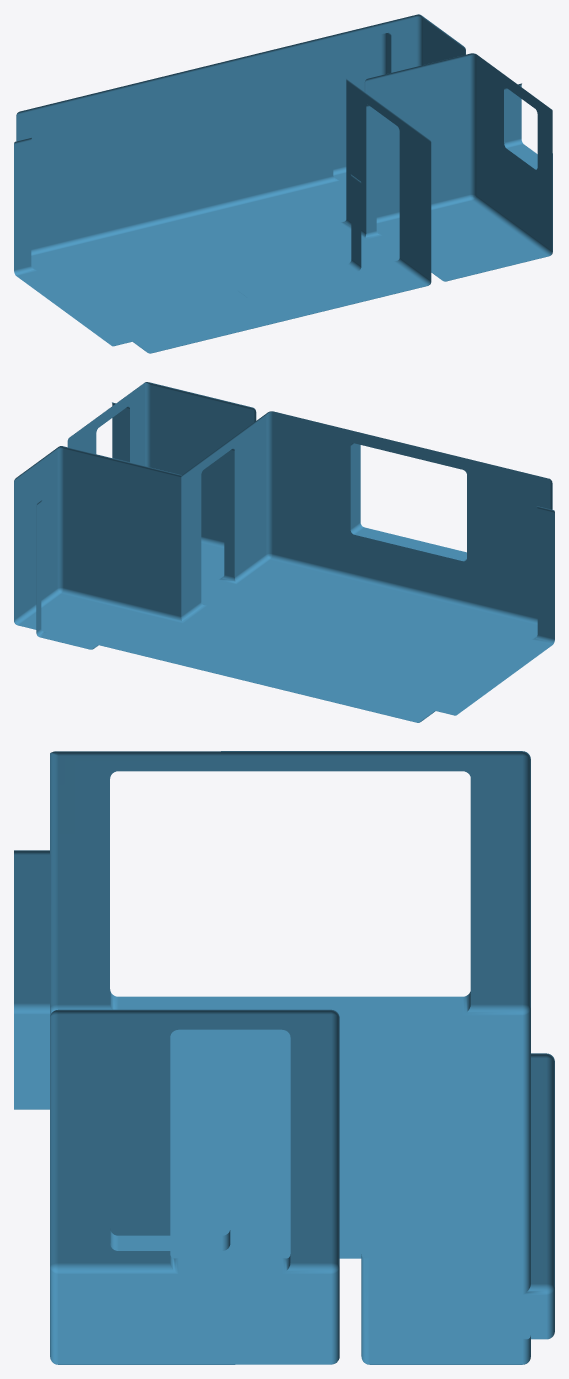
File: shell.glb
The picture shows the model from 3 angles, top to bottom: view 1: azimuth 30°, elevation 25°; view 2: azimuth 150°, elevation 25°; view 3: azimuth 270°, elevation 25°; orthographic projection. The views are drawn at different scales.
Parts seen in each view (by area): view 1: shell; view 2: shell; view 3: shell.
Boxes of the visible parts, box(x1,y1,x2,y2) form: shell: box(14, 14, 552, 353); shell: box(14, 382, 554, 722); shell: box(14, 751, 554, 1364).
Bounding box in the file's own units: 7.6 × 2.42 × 4.5.
